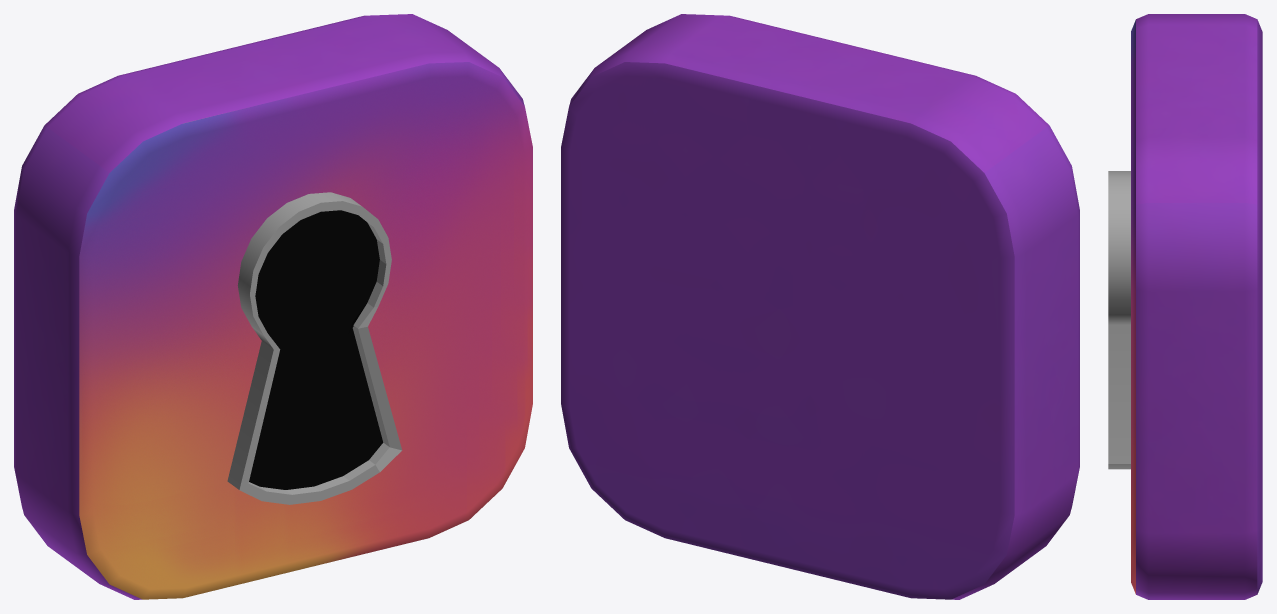
File: instagram.fbx
The picture shows the model from 3 angles, left to right: view 1: azimuth 30°, elevation 25°; view 2: azimuth 150°, elevation 25°; view 3: azimuth 270°, elevation 25°; orthographic projection. The views are drawn at different scales.
Parts seen in each view (by area): view 1: Peeking; view 2: Peeking; view 3: Peeking.
Part boxes in pixels (box(x1,y1,x2,y2)): Peeking: box(14, 14, 532, 599); Peeking: box(561, 14, 1079, 599); Peeking: box(1108, 14, 1262, 599).
Bounding box in the file's own units: 24.46 × 24.46 × 7.56.
Materials: 3 (1 with a texture image).
